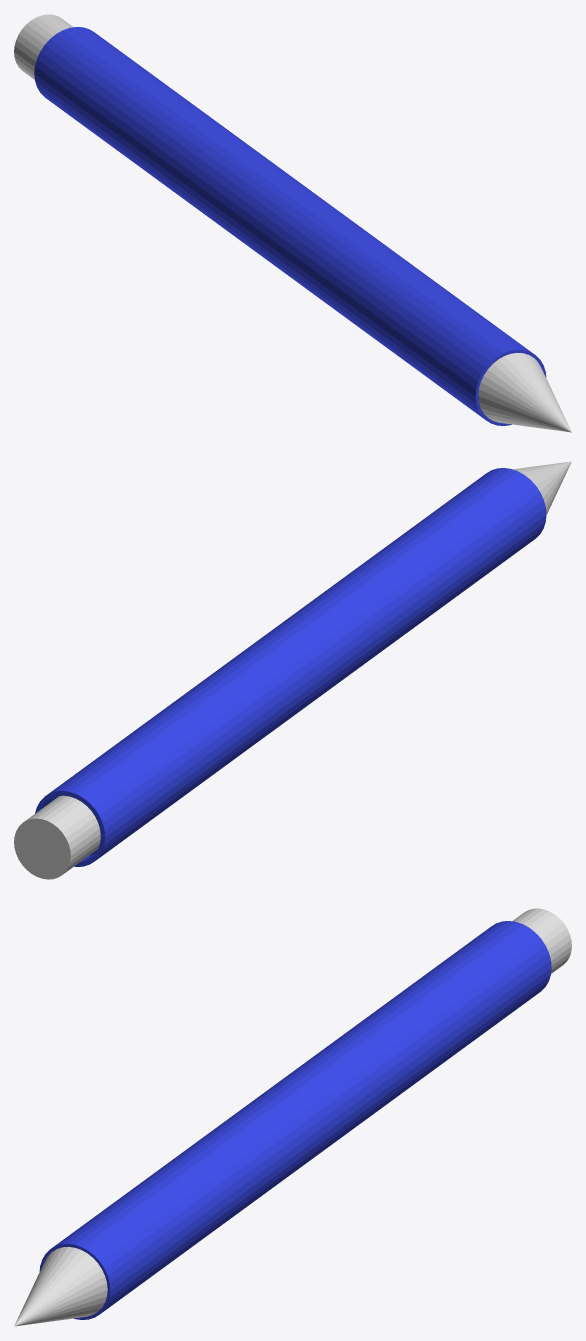
Rendered from BallpointPen.fbx.
The picture shows the model from 3 angles, top to bottom: view 1: azimuth 30°, elevation 25°; view 2: azimuth 150°, elevation 25°; view 3: azimuth 330°, elevation 25°; orthographic projection.
Visible parts, largest first — view 1: ballpoint_pen; view 2: ballpoint_pen; view 3: ballpoint_pen.
Boxes of the visible parts, left/top/right/bottom form: ballpoint_pen: left=14, top=14, right=571, bottom=432; ballpoint_pen: left=14, top=461, right=571, bottom=879; ballpoint_pen: left=14, top=908, right=571, bottom=1326.
Bounding box in the file's own units: 0.02 × 0.2584 × 0.02.
